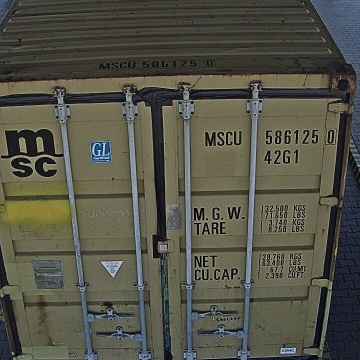serial_id: (205, 129, 336, 146)
